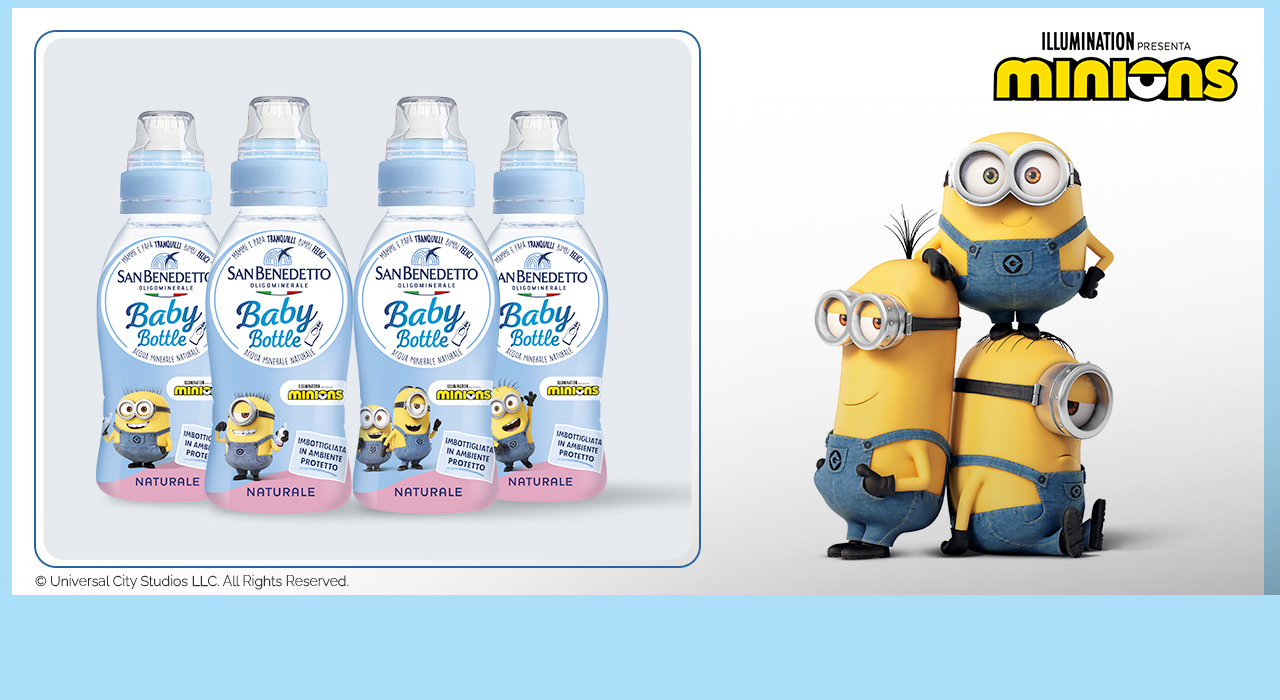PlasticBottle: (198, 99, 351, 517), (485, 102, 627, 523), (83, 105, 226, 515), (349, 85, 483, 521)
